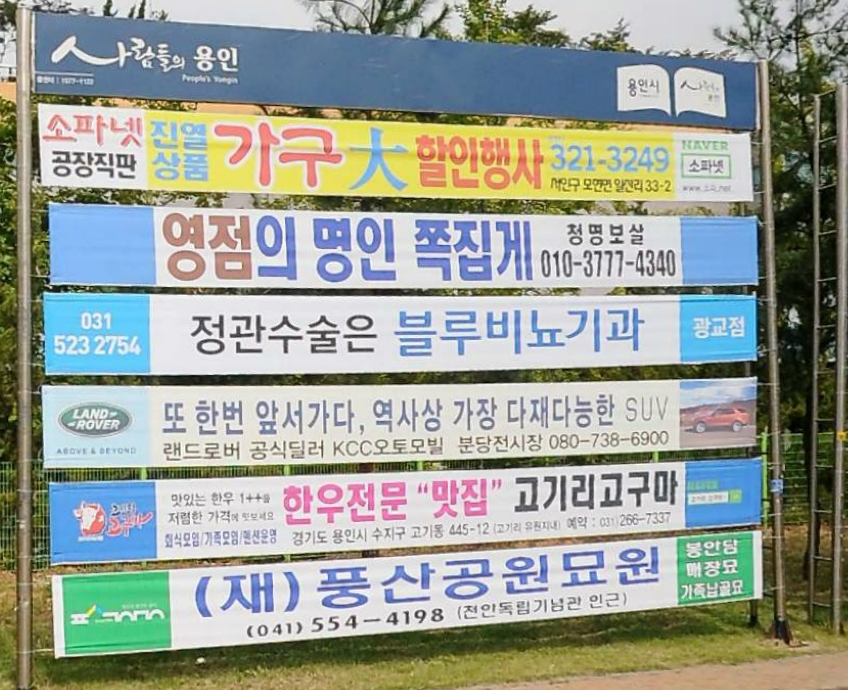banner: (41, 521, 772, 663), (48, 453, 770, 566), (31, 97, 760, 205), (35, 376, 775, 473), (37, 194, 757, 293), (37, 283, 760, 371)
